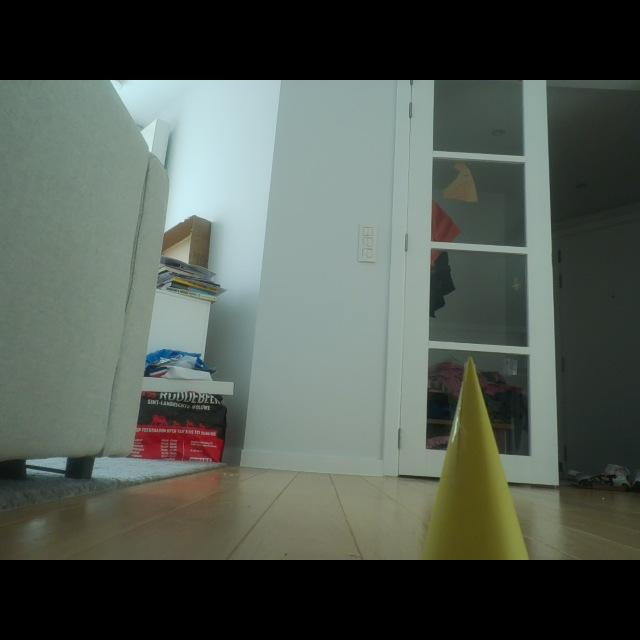bolya: (423, 358, 528, 559)
